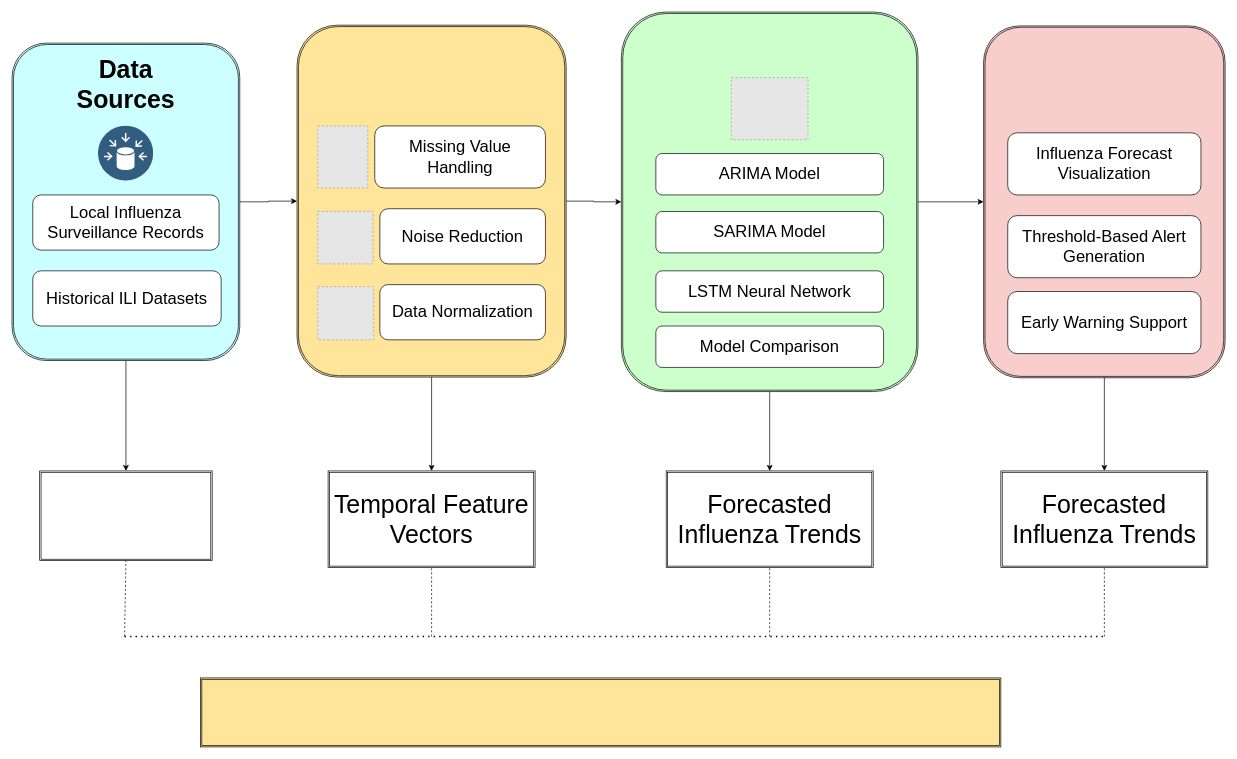
Image size: 1237x759. Some labels were removed from this diagram. Grey dashed boxes stand in for pictures. The box of each missing label's shape, as (x1, y1, x2, y2) in pixels:
Decision Support Layer: (983, 25, 1225, 378)
Forecasting Engine: (621, 11, 918, 392)
Pre-Processing Engine: (296, 24, 566, 377)
Raw ILI Data: (39, 470, 212, 561)
Time Series Modelling and Forecasting Pipeline: (200, 677, 1001, 747)
